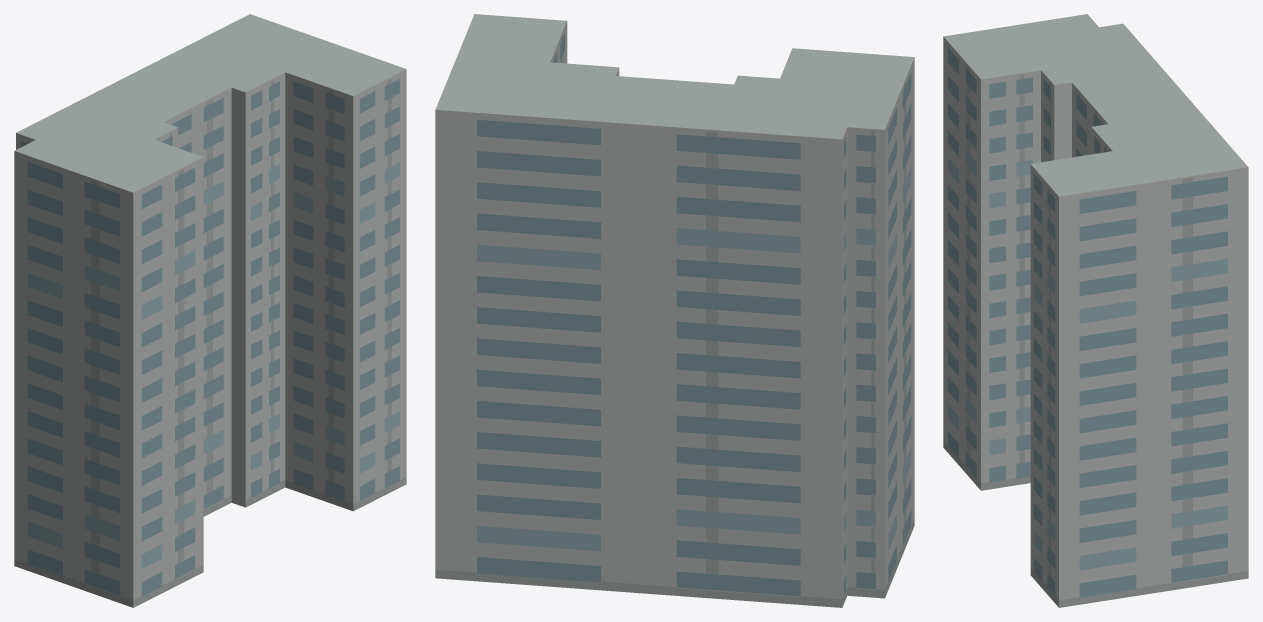
The model's file is residential-06a7d1a4-8f3a-4019-b092-5d6988faaa7c.glb.
3 renders of one model, left to right at view 1: azimuth 30°, elevation 25°; view 2: azimuth 150°, elevation 25°; view 3: azimuth 270°, elevation 25°, orthographic. The views are drawn at different scales.
Visible parts, largest first — view 1: residential-06a7d1a4-8f3a-4019-b092-5d6988faaa7c.tmp; view 2: residential-06a7d1a4-8f3a-4019-b092-5d6988faaa7c.tmp; view 3: residential-06a7d1a4-8f3a-4019-b092-5d6988faaa7c.tmp.
Boxes of the visible parts, bbox=[...] form: residential-06a7d1a4-8f3a-4019-b092-5d6988faaa7c.tmp: bbox=[14, 14, 406, 607]; residential-06a7d1a4-8f3a-4019-b092-5d6988faaa7c.tmp: bbox=[435, 14, 914, 607]; residential-06a7d1a4-8f3a-4019-b092-5d6988faaa7c.tmp: bbox=[943, 14, 1248, 607].
Size of the model in its own units: 47.66 by 50 by 33.63.
